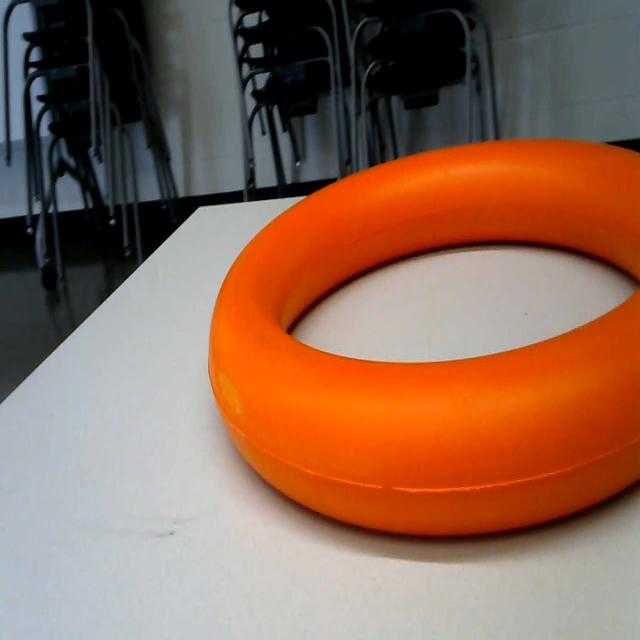note: (209, 123, 640, 559)
